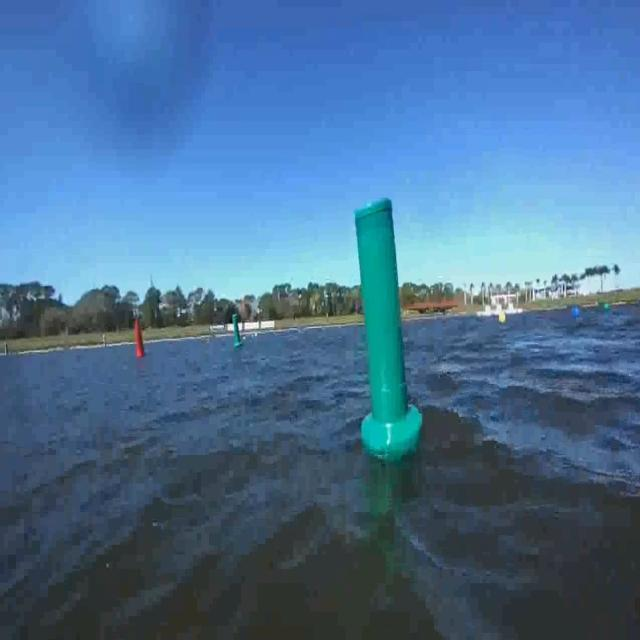blue-buoy: (571, 306, 580, 320)
green-buoy: (603, 303, 610, 314)
green-column-buoy: (353, 200, 422, 465), (233, 313, 245, 347)
red-column-buoy: (134, 320, 148, 360)
yellow-buoy: (498, 313, 506, 326)
